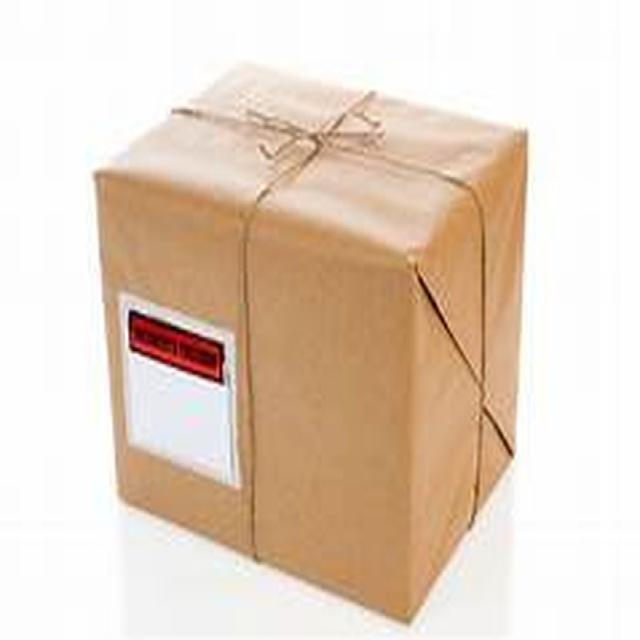box: (64, 70, 552, 590)
